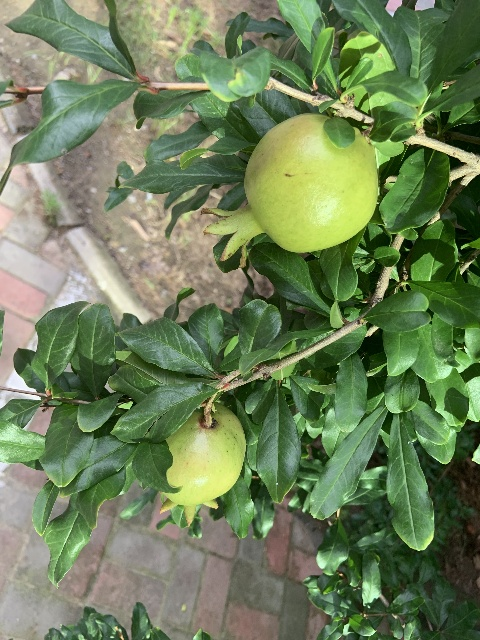mid-growth: (201, 113, 378, 267), (156, 400, 245, 527)
